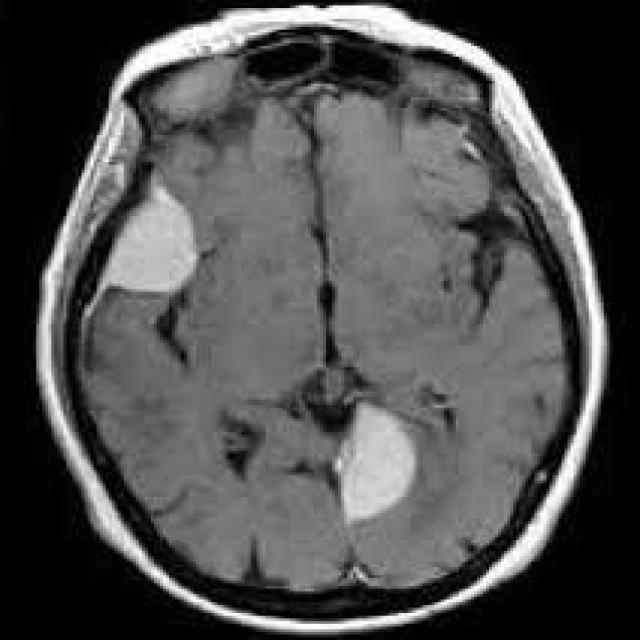Tumor: (335, 402, 420, 523), (103, 186, 199, 293)
